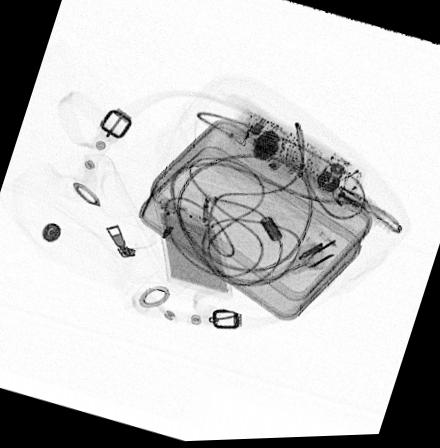Powerbank: (156, 202, 231, 298)
